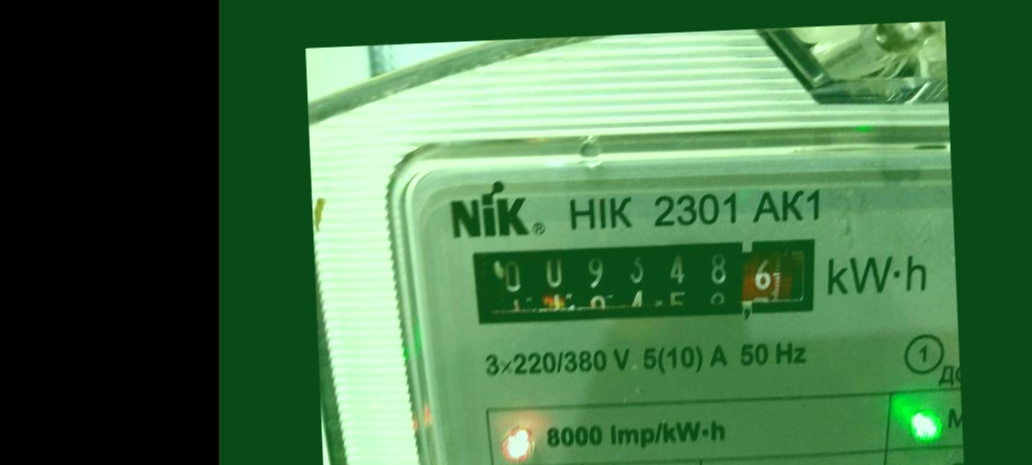0: (542, 253, 565, 290), (501, 257, 523, 292)
3: (624, 250, 647, 283)
4: (664, 249, 687, 286)
6: (751, 255, 775, 290)
8: (707, 249, 728, 284)
9: (585, 252, 604, 287)
screen: (448, 221, 837, 340)
